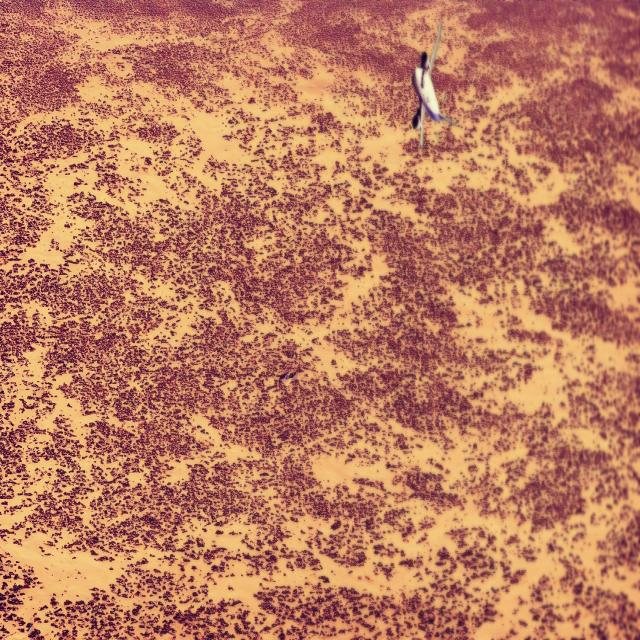airplane: (410, 20, 454, 150)
